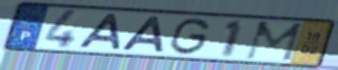1: (219, 19, 244, 59)
4: (42, 7, 81, 51)
A: (118, 15, 167, 55), (75, 12, 123, 52)
G: (167, 17, 213, 56)
M: (243, 20, 306, 63)
